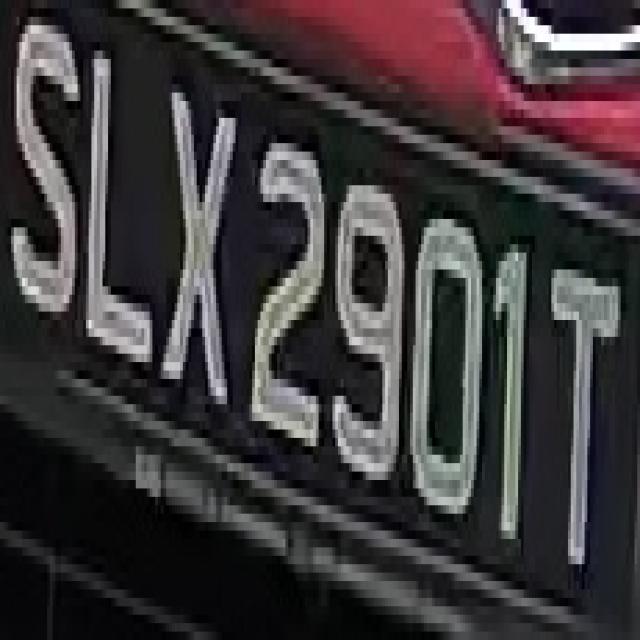0: (407, 177, 488, 539)
1: (490, 202, 530, 564)
2: (241, 84, 327, 472)
9: (324, 143, 410, 539)
L: (77, 25, 158, 396)
S: (8, 17, 80, 337)
T: (543, 228, 621, 590)
X: (150, 59, 249, 429)
